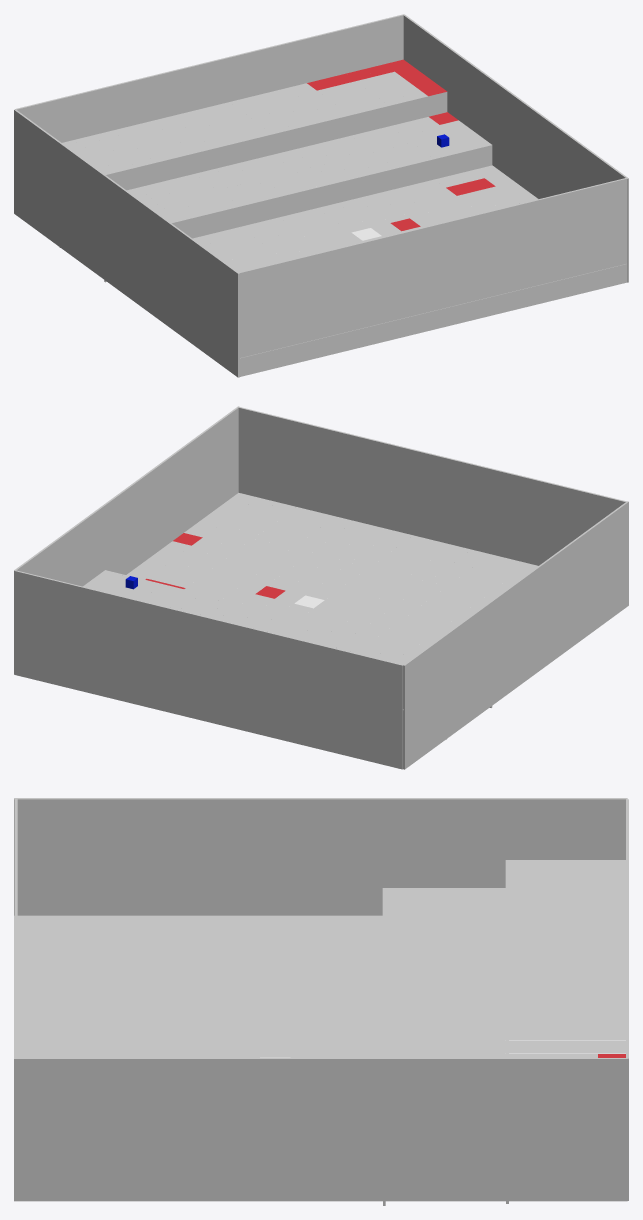
File: HospitalTest.fbx
3 renders of one model, top to bottom at view 1: azimuth 30°, elevation 25°; view 2: azimuth 150°, elevation 25°; view 3: azimuth 270°, elevation 25°, orthographic. The views are drawn at different scales.
Parts seen in each view (by area): view 1: Cubo.002, Cubo.004, Cubo.001, Cubo.003, Cubo.005, Cubo.006; view 2: Cubo.001, Cubo.002, Cubo.004, Cubo.003; view 3: Cubo.003, Cubo.004, Cubo.001, Cubo.002.
Part boxes in pixels (<box>): Cubo.002: <box>239,178,627,376</box>; Cubo.004: <box>14,109,239,377</box>; Cubo.001: <box>15,14,403,142</box>; Cubo.003: <box>403,14,628,282</box>; Cubo.005: <box>59,92,447,247</box>; Cubo.006: <box>104,145,492,282</box>; Cubo.001: <box>14,570,402,769</box>; Cubo.002: <box>238,406,626,565</box>; Cubo.004: <box>403,501,628,769</box>; Cubo.003: <box>14,406,239,673</box>; Cubo.003: <box>14,1058,627,1201</box>; Cubo.004: <box>14,798,627,915</box>; Cubo.001: <box>626,799,628,1200</box>; Cubo.002: <box>14,799,17,1058</box>.
Size of the model in its own units: 10005 by 2632 by 9959.
